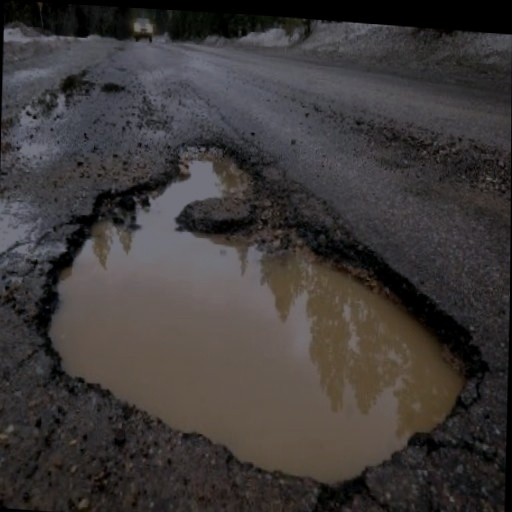pothole: (29, 121, 495, 506)
